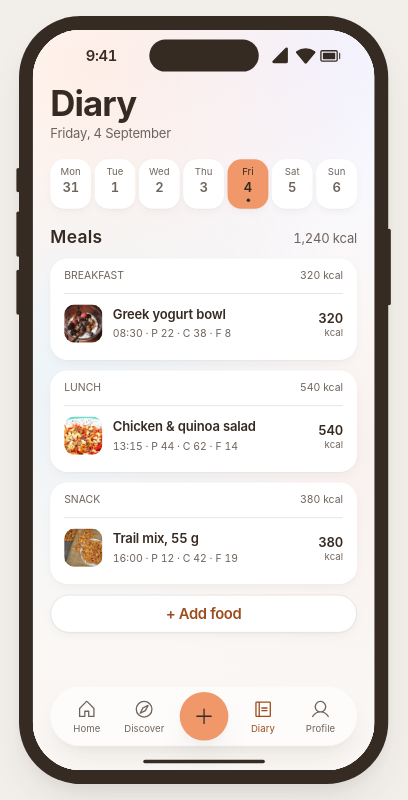
DiaryScreen › shows today by default and the empty state for another day of the week
The image size is (408, 800).
expect the element "Breakfast" is shown: met, box [51,258,357,360]
Click the radio button labelled "Thu 3" at (204, 184), box [184,159,224,209]
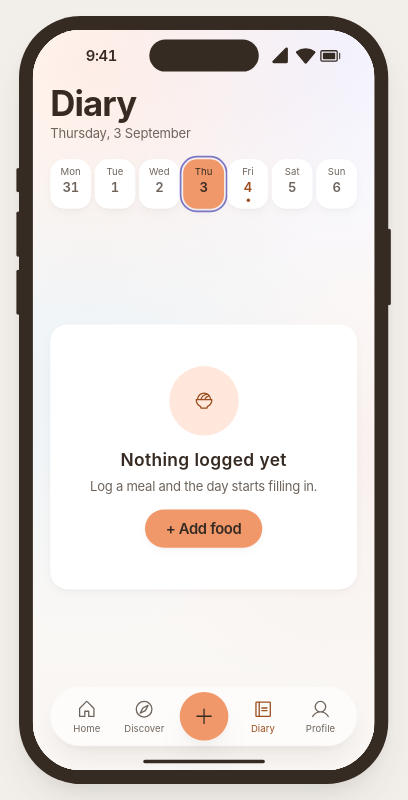
expect the heading "Nothing logged yet" is shown: met, box [121,449,287,470]
